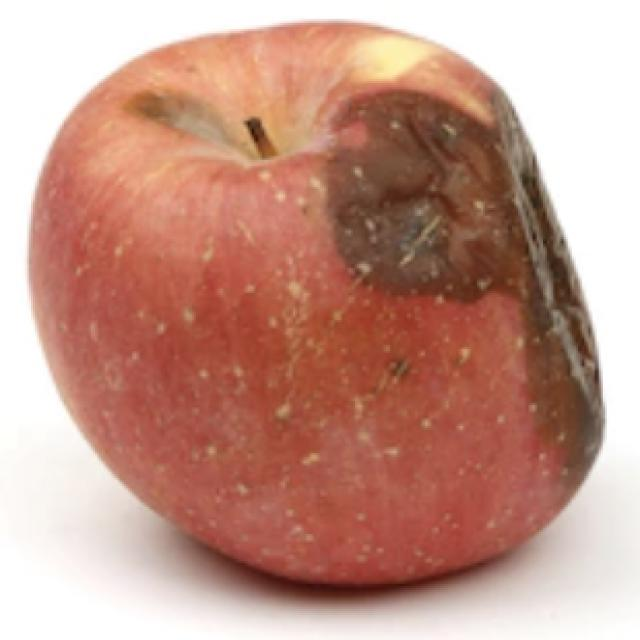rotten_apple: (29, 20, 602, 602)
